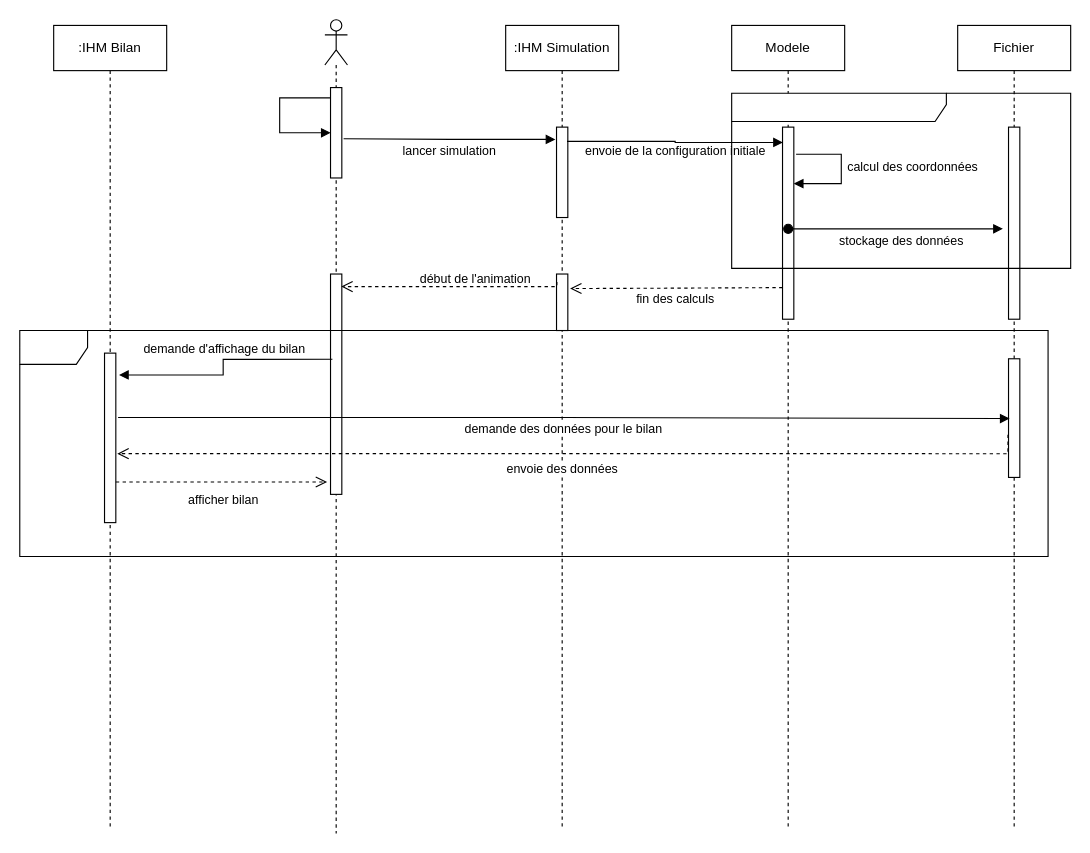
This 1090x853 diagram has some shape labels left out. Here are the shapes that lost their labels. From the top down, the centre of each, then its label:
(901,180): loop pour chaque personne
(533,443): alt
